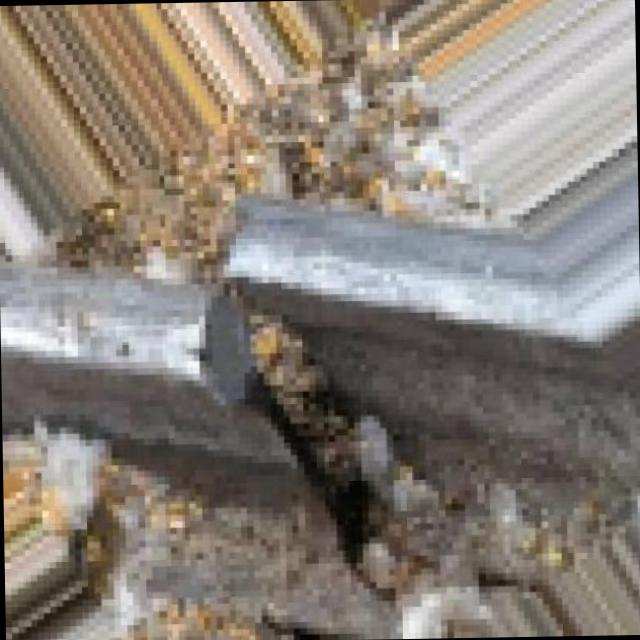defective: (16, 107, 640, 640)
